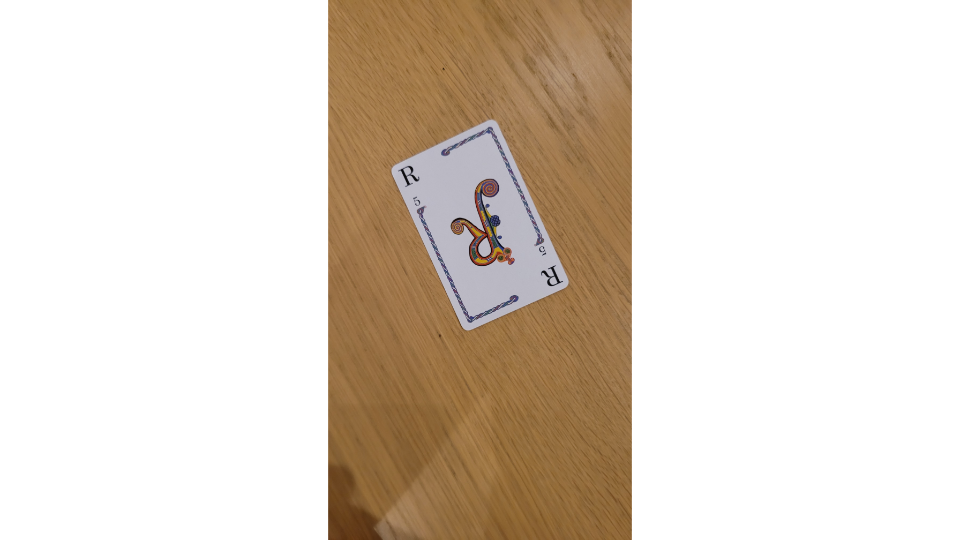R: (390, 116, 573, 334)
